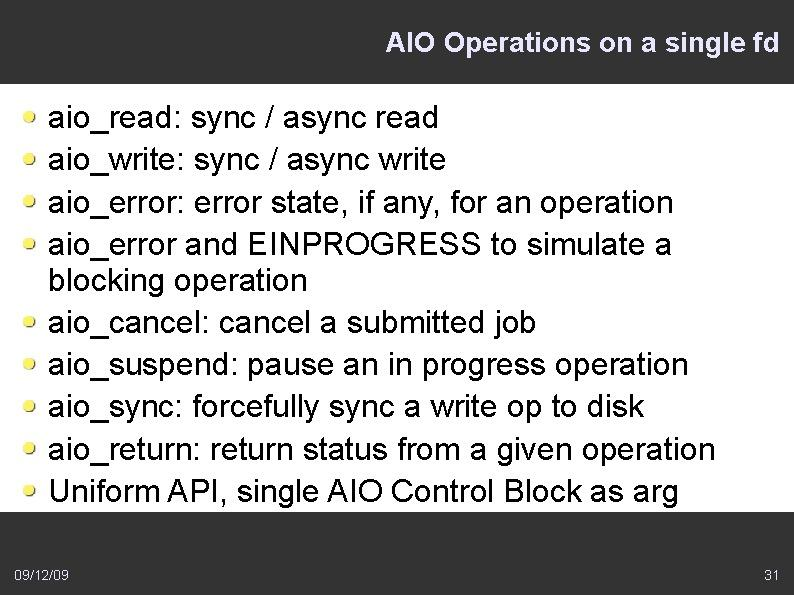paragraph: (16, 95, 747, 531)
title: (377, 17, 788, 64)
